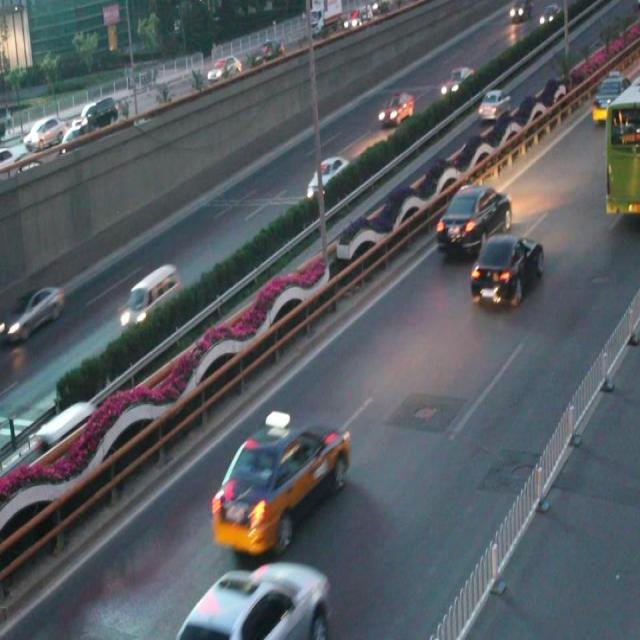car: (212, 407, 350, 553), (176, 560, 328, 640), (470, 231, 543, 311), (434, 180, 510, 256), (11, 284, 63, 342), (305, 154, 350, 198), (376, 90, 414, 128), (476, 86, 510, 124)
truck: (120, 263, 180, 331)
van: (601, 81, 640, 219)
